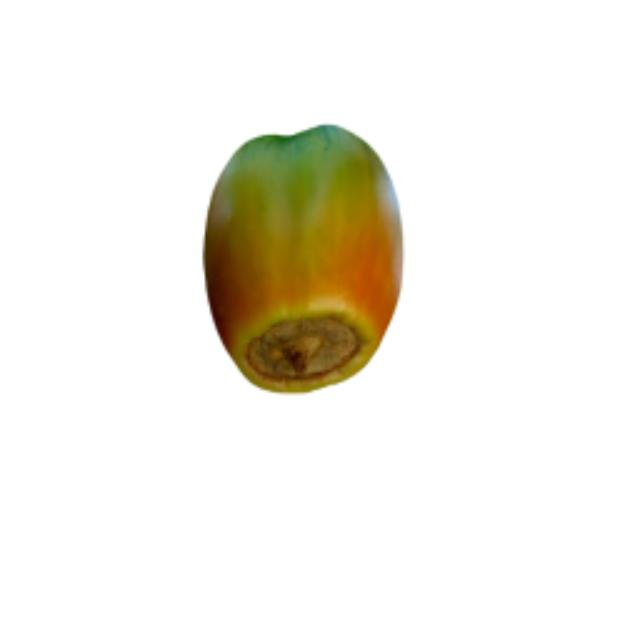defect: (189, 113, 410, 402)
